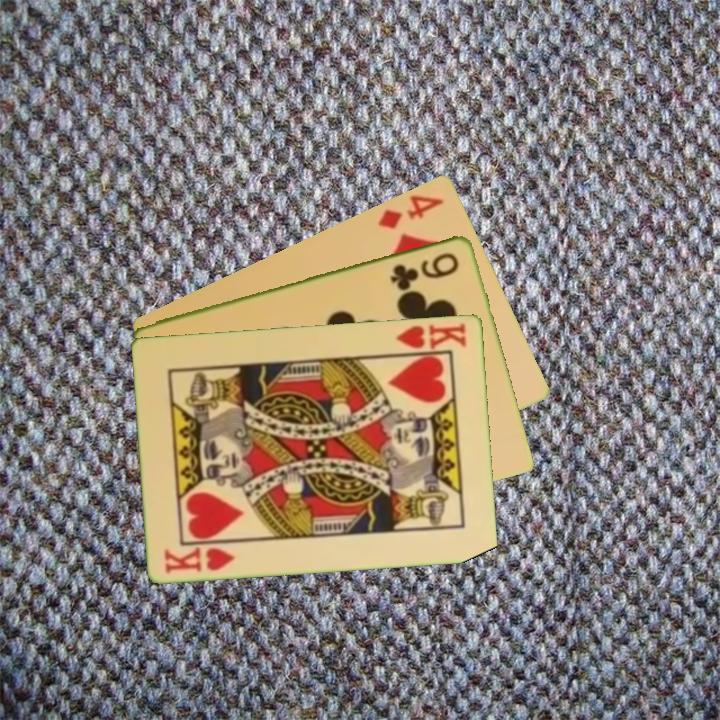4d: (374, 190, 447, 232)
9c: (387, 248, 462, 290)
Kh: (390, 319, 470, 357), (161, 542, 239, 577)
